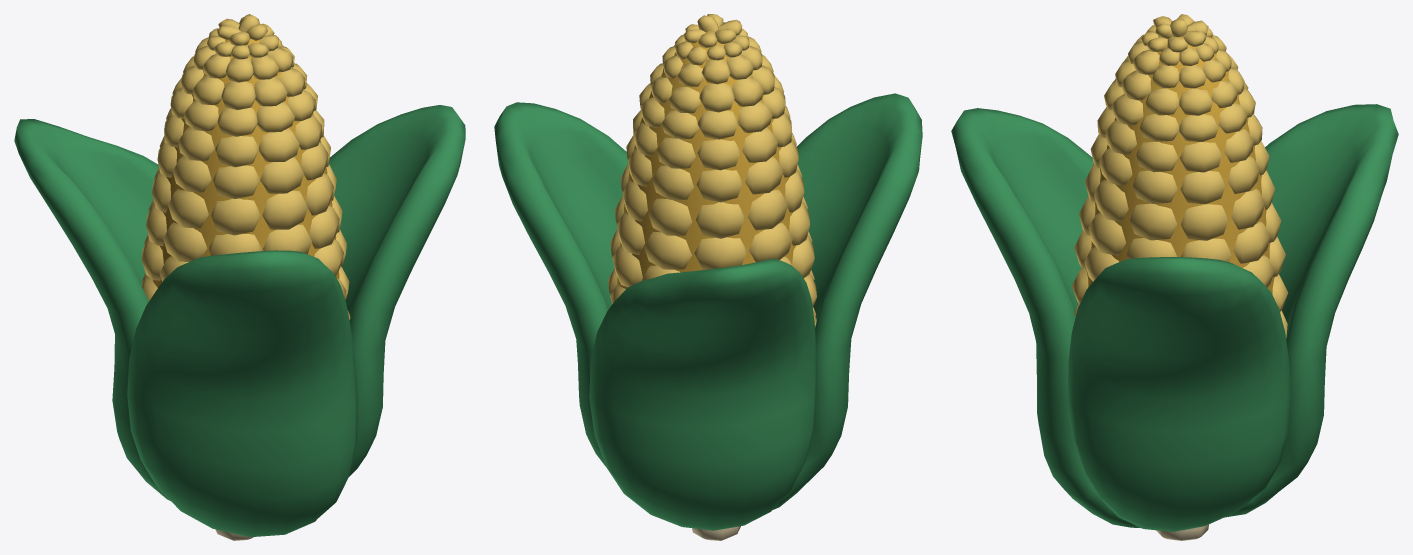
The model's file is Corn_01.dae.
The picture shows the model from 3 angles, left to right: view 1: azimuth 30°, elevation 25°; view 2: azimuth 150°, elevation 25°; view 3: azimuth 270°, elevation 25°; orthographic projection.
Parts seen in each view (by area): view 1: Corn_01_LOD0; view 2: Corn_01_LOD0; view 3: Corn_01_LOD0.
Part boxes in pixels (box(x1,y1,x2,y2)): Corn_01_LOD0: box(14, 14, 465, 540); Corn_01_LOD0: box(494, 14, 922, 540); Corn_01_LOD0: box(951, 14, 1398, 540).
Size of what is drawn, in the model's own units: 4.88 by 5.25 by 6.75.
